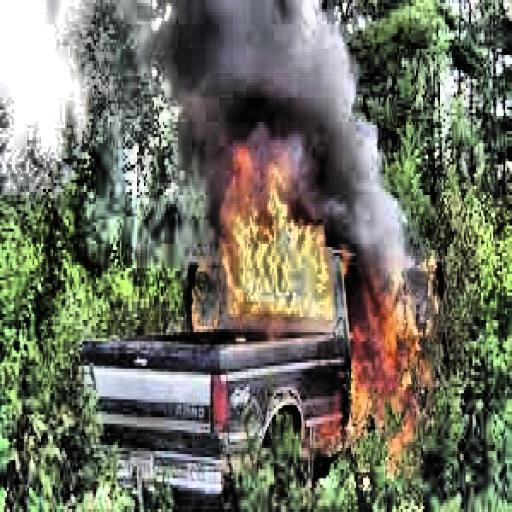fire: (202, 143, 344, 335), (334, 244, 447, 454)
